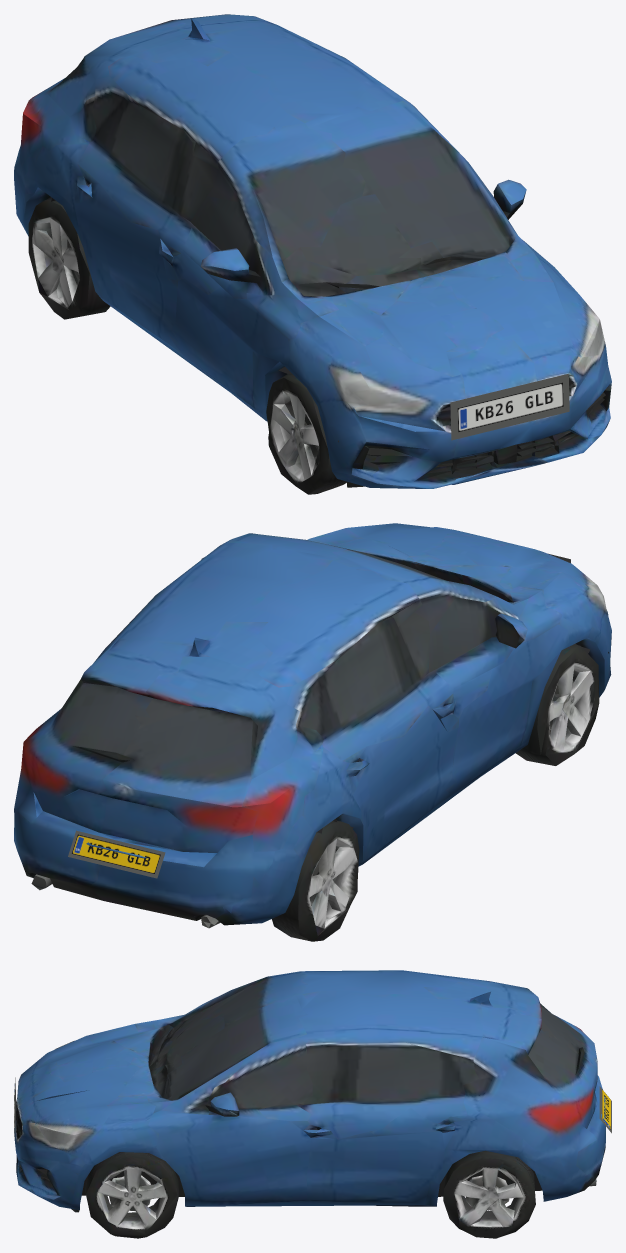
File: car-family-lod.glb
3 renders of one model, top to bottom at view 1: azimuth 30°, elevation 25°; view 2: azimuth 150°, elevation 25°; view 3: azimuth 270°, elevation 25°, orthographic. The views are drawn at different scales.
Visible parts, largest first — view 1: body, wheel_RR_mesh, wheel_FR_mesh; view 2: body, wheel_RR_mesh, wheel_FR_mesh; view 3: body, wheel_RL_mesh, wheel_FL_mesh.
Part boxes in pixels (bbox=[...]): body: bbox=[14, 14, 611, 488]; wheel_RR_mesh: bbox=[28, 199, 110, 319]; wheel_FR_mesh: bbox=[266, 373, 346, 494]; body: bbox=[14, 523, 611, 928]; wheel_RR_mesh: bbox=[272, 820, 359, 941]; wheel_FR_mesh: bbox=[515, 644, 599, 765]; body: bbox=[14, 970, 611, 1212]; wheel_RL_mesh: bbox=[436, 1150, 542, 1238]; wheel_FL_mesh: bbox=[81, 1152, 181, 1238].
Size of the model in its own units: 2.02 by 1.59 by 4.34.
3 materials, 2 textured.
